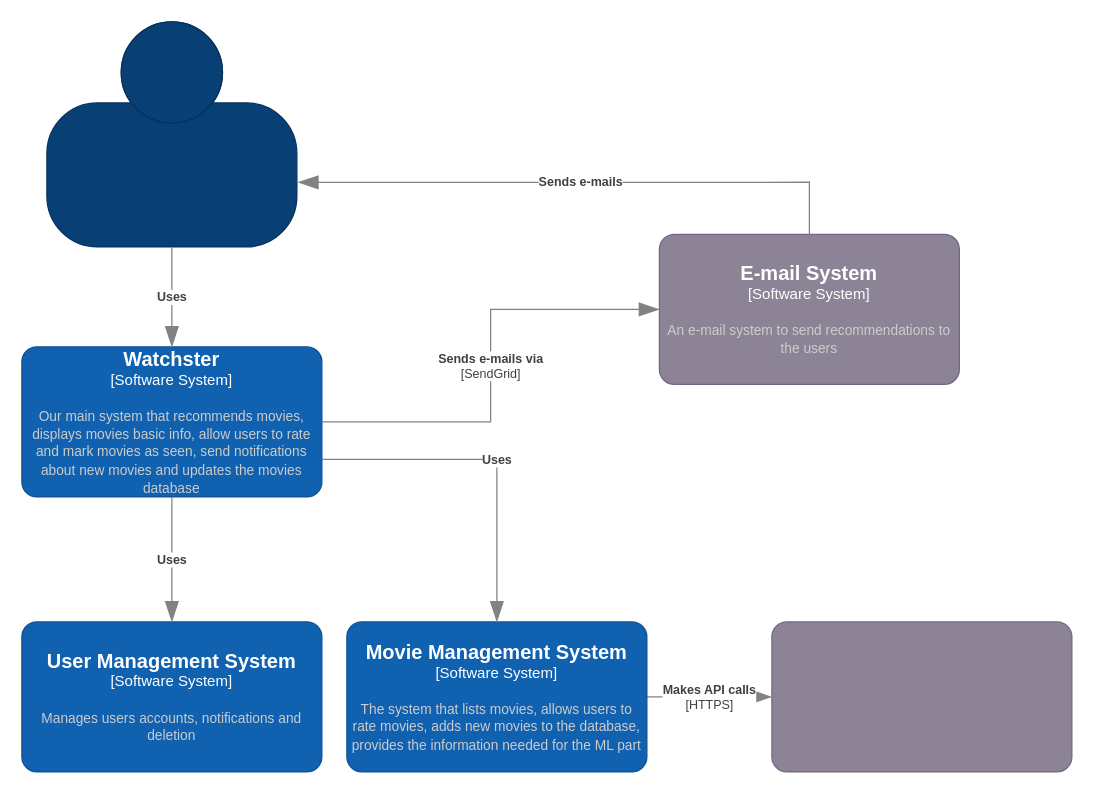
The diagram is 1094 pixels wide and 794 high, and some of its shapes have lost their labels. The shapes that lost their labels are listed below. From the top down, each one's centre as x and y in pixels, then its label:
At [171,134]: "Regular user [Person] A regular user of our application".
At [921,696]: "IMDb API [Software System] IMDb's API for it's movies, series and their ratings".
